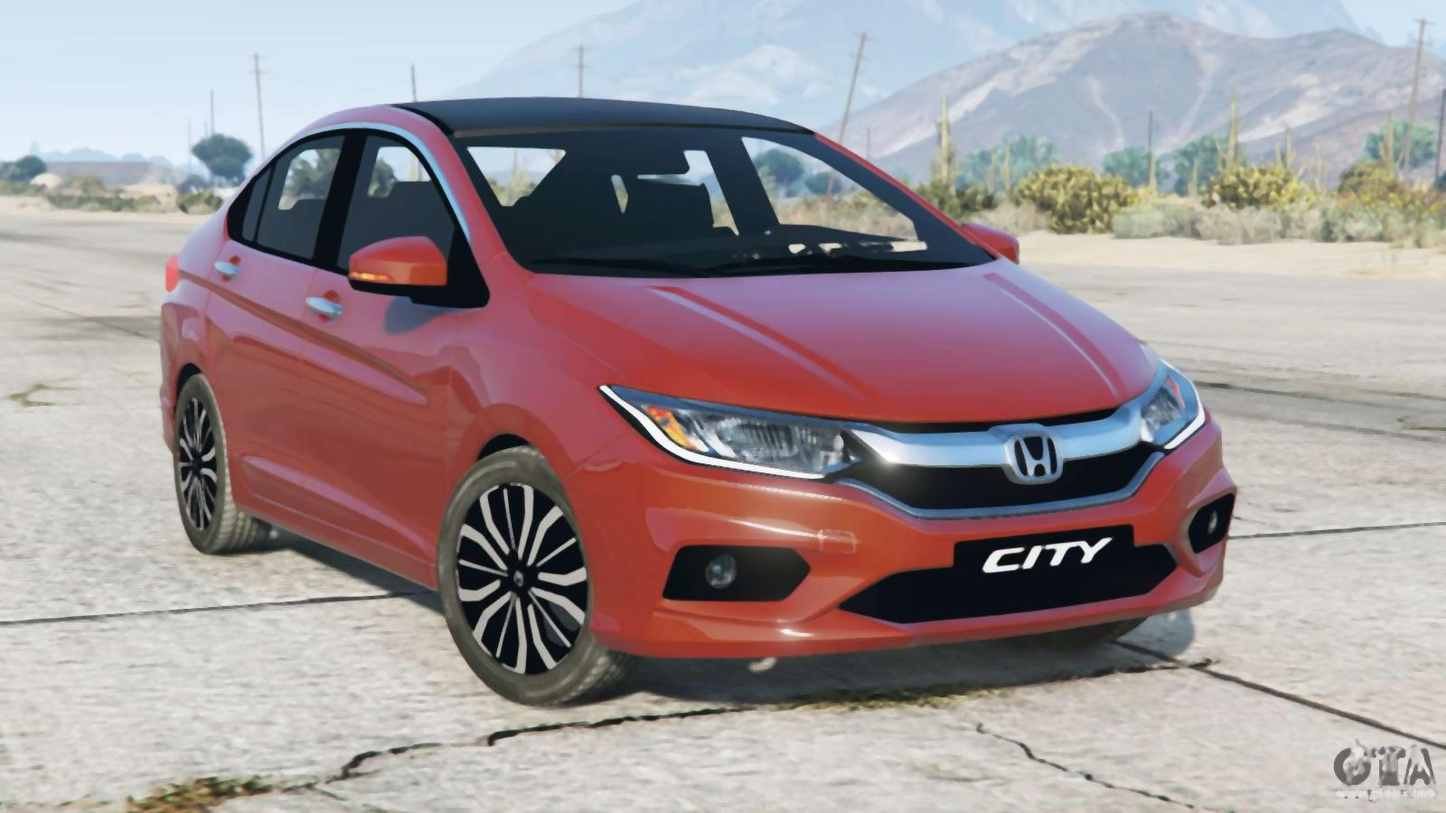Car hood: (536, 263, 1160, 429)
Driver-s door - -F-R-: (300, 72, 455, 582)
Fender - -F-R-: (431, 253, 632, 624)
Fender - -R-R-: (152, 180, 231, 445)
Front bumper: (548, 419, 1260, 665)
Headlight - -L-: (1130, 363, 1211, 452)
Headlight - -R-: (593, 381, 873, 485)
Passenger-s door - -R-R-: (185, 85, 347, 543)
Side bumper - -R-: (220, 438, 438, 611)
Side mirror - -R-: (337, 230, 450, 299)
